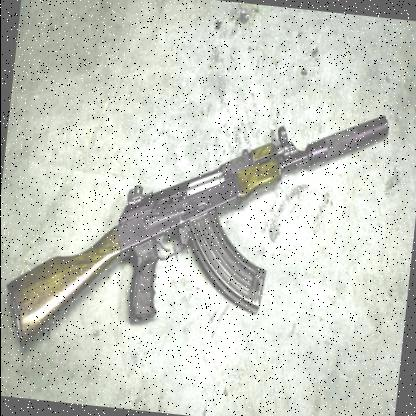rifle: (0, 45, 392, 385)
